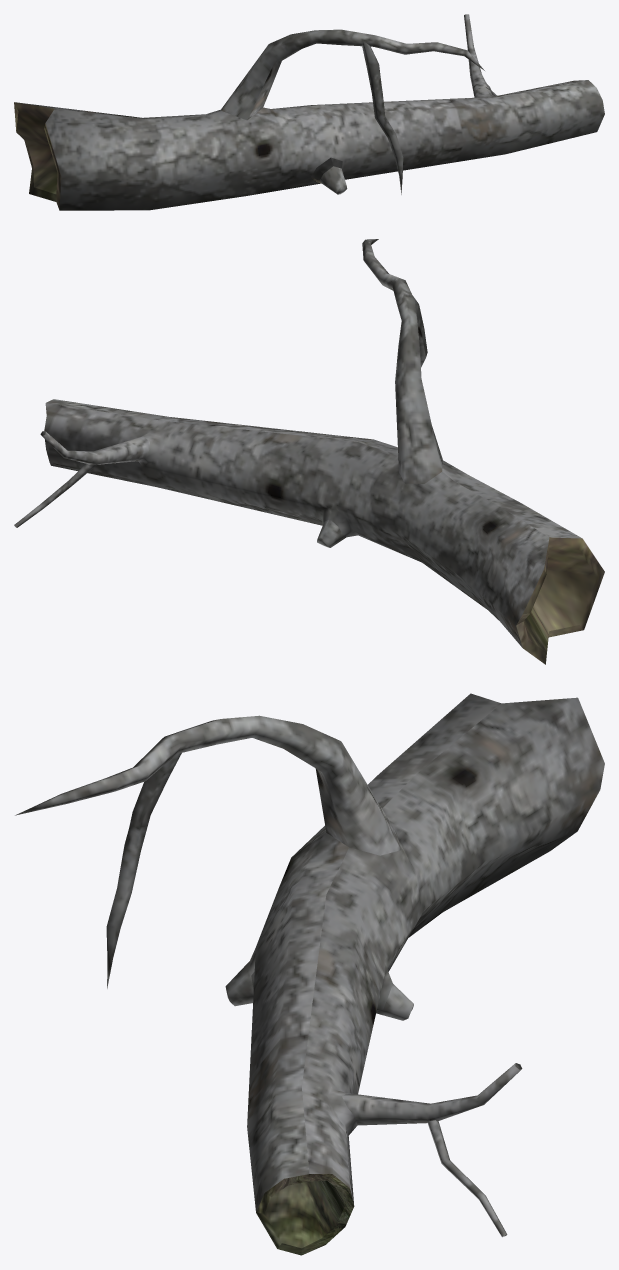
File: tree_down.FBX
3 views of the same model, one above another, from view 1: azimuth 30°, elevation 25°; view 2: azimuth 150°, elevation 25°; view 3: azimuth 270°, elevation 25° (orthographic). The views are drawn at different scales.
Parts seen in each view (by area): view 1: tree_down; view 2: tree_down; view 3: tree_down.
Part boxes in pixels (x1,y1,x2,y2): tree_down: (14, 14, 604, 210); tree_down: (14, 239, 604, 664); tree_down: (15, 693, 604, 1255).
Bounding box in the file's own units: 6.08 × 2.22 × 3.7.
Materials: 1 (1 with a texture image).
